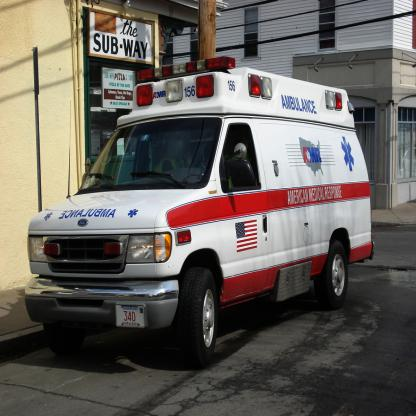Ambulance: (23, 55, 374, 367)
